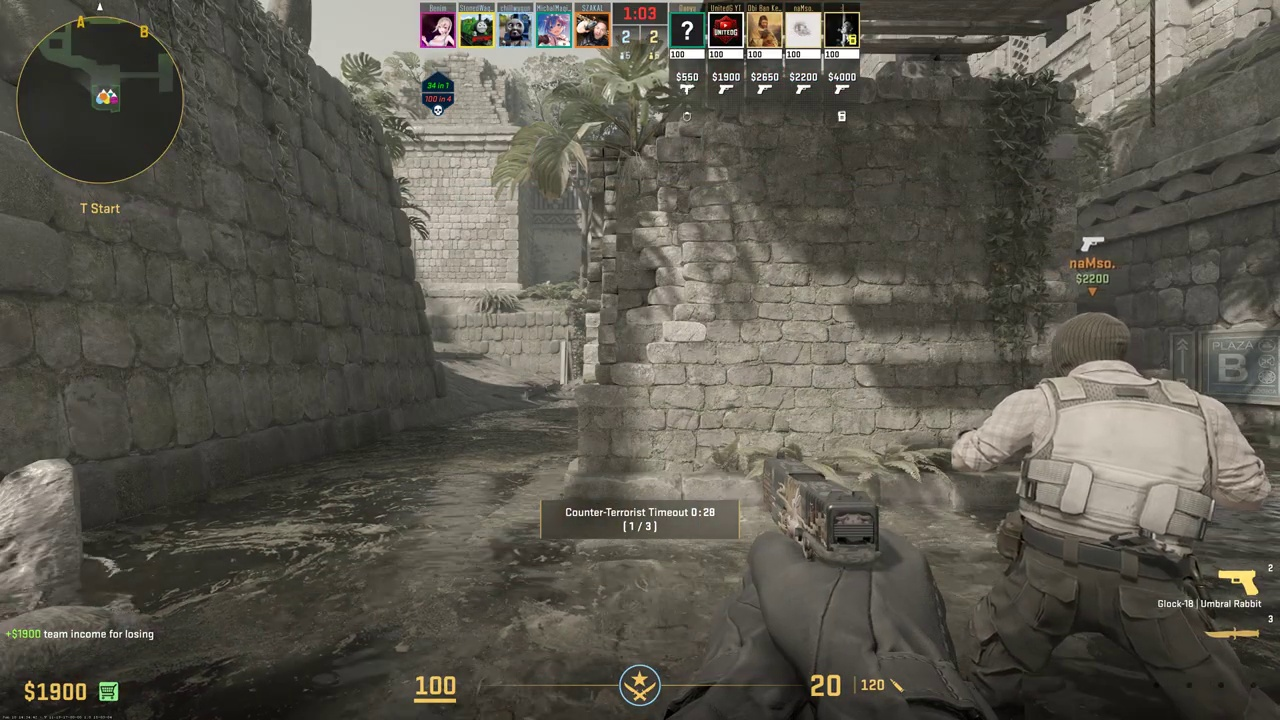Terrorist: (979, 311, 1246, 719)
